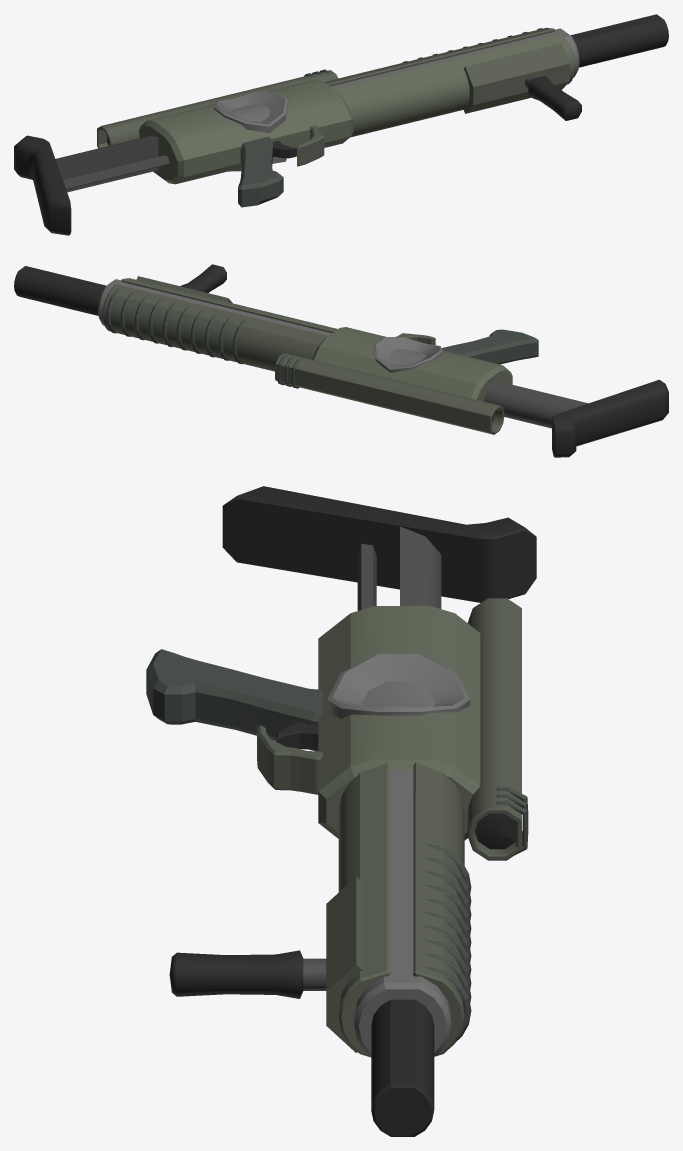
The model's file is LaserRifle.fbx.
The picture shows the model from 3 angles, top to bottom: view 1: azimuth 30°, elevation 25°; view 2: azimuth 150°, elevation 25°; view 3: azimuth 270°, elevation 25°; orthographic projection. The views are drawn at different scales.
Parts seen in each view (by area): view 1: polySurface7; view 2: polySurface7; view 3: polySurface7.
Boxes of the visible parts, x1,y1,x2,y2 form: polySurface7: [14, 14, 668, 235]; polySurface7: [14, 264, 668, 457]; polySurface7: [146, 486, 536, 1136].
Bounding box in the file's own units: 112 × 9.47 × 30.81.
1 material, 1 textured.
